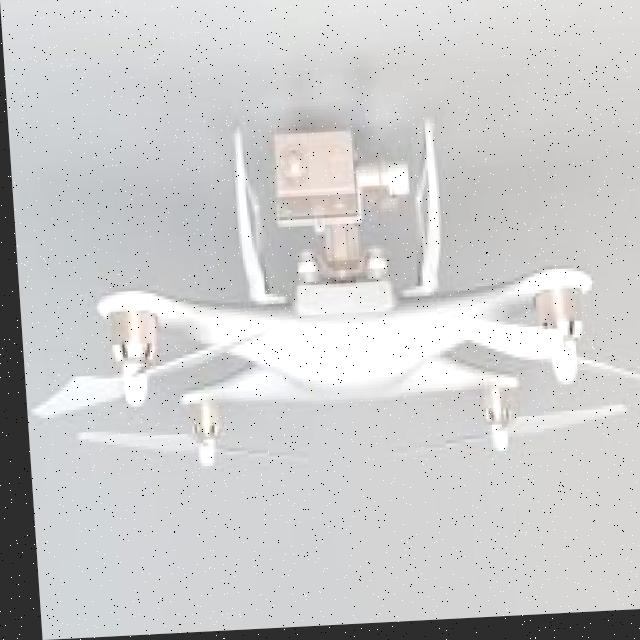drone: (11, 102, 640, 497)
